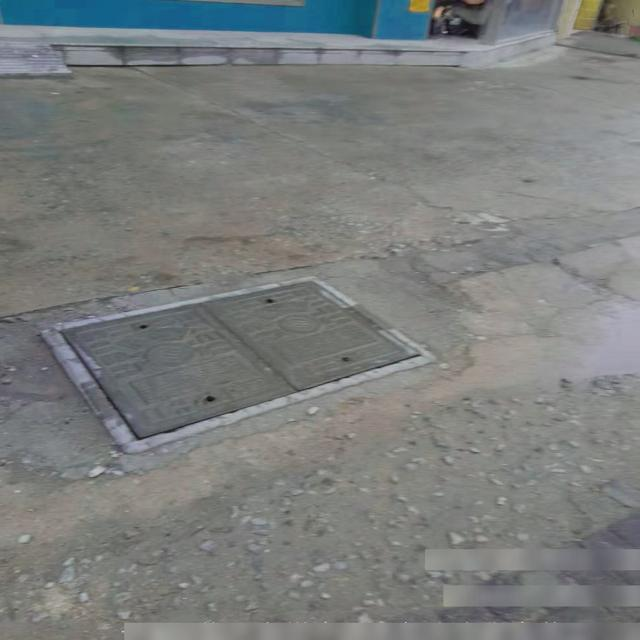good: (39, 276, 440, 452)
